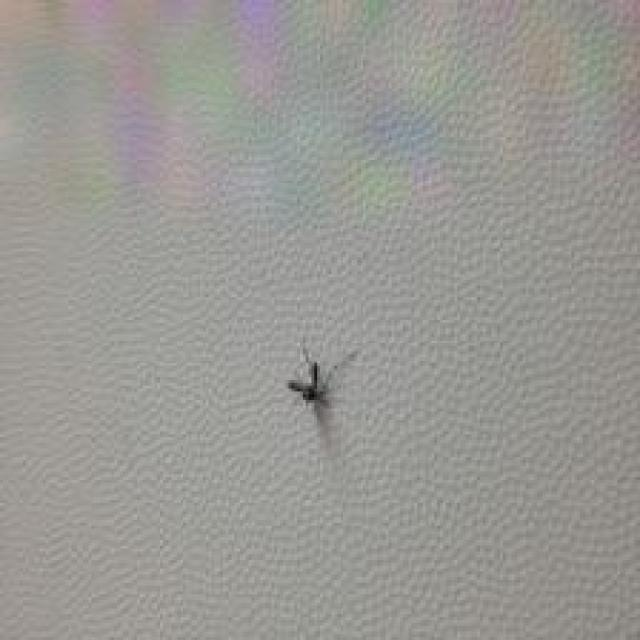Aedes albopictus: (284, 341, 359, 413)
